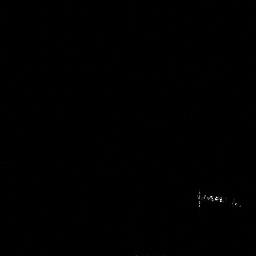ship: (192, 185, 247, 210)
